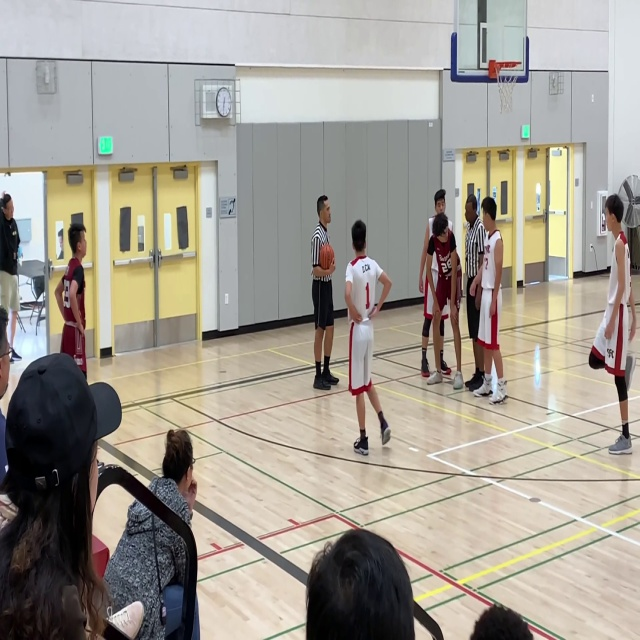Basketball: (318, 243, 334, 270)
